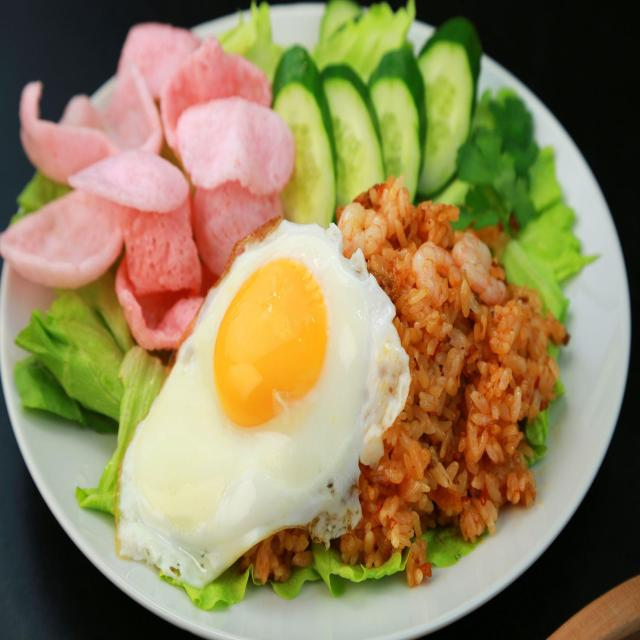Nasi Goreng: (240, 195, 538, 572)
